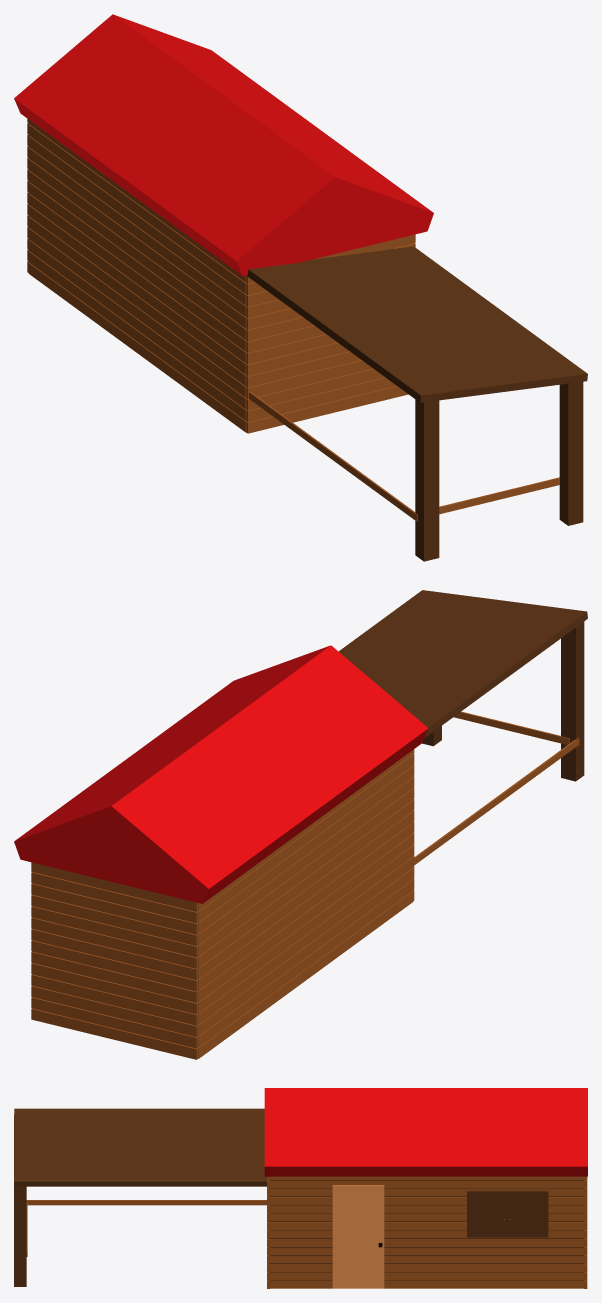
Rendered from GranjaExterior1.fbx.
3 renders of one model, top to bottom at view 1: azimuth 30°, elevation 25°; view 2: azimuth 150°, elevation 25°; view 3: azimuth 270°, elevation 25°, orthographic. The views are drawn at different scales.
Visible parts, largest first — view 1: Cylinder, Cube.005, Cube.022, Cube.007, Cube.021, Cube.020, Cube.024, Cube.023; view 2: Cylinder, Cube.005, Cube.008, Cube.022, Cube.021, Cube.024, Cube.023; view 3: Cylinder, Cube.006, Cube.022, Cube.017, Cube, Cube.018, Cube.019, Cube.024, Cube.020, Cube.008, Cube.007.
Part boxes in pixels (x1,y1,x2,y2): Cylinder: [14, 14, 433, 276]; Cube.005: [28, 120, 246, 432]; Cube.022: [247, 246, 587, 402]; Cube.007: [246, 234, 415, 433]; Cube.021: [415, 397, 439, 561]; Cube.020: [559, 377, 583, 525]; Cube.024: [249, 392, 417, 521]; Cube.023: [439, 477, 559, 514]; Cylinder: [14, 645, 428, 903]; Cube.005: [198, 750, 413, 1058]; Cube.008: [31, 862, 198, 1059]; Cube.022: [339, 590, 587, 737]; Cube.021: [561, 621, 584, 781]; Cube.024: [414, 738, 579, 865]; Cube.023: [453, 711, 569, 744]; Cylinder: [264, 1088, 587, 1176]; Cube.006: [269, 1176, 583, 1288]; Cube.022: [14, 1108, 266, 1186]; Cube.017: [332, 1185, 384, 1288]; Cube: [269, 1180, 584, 1280]; Cube.018: [507, 1190, 548, 1237]; Cube.019: [467, 1190, 507, 1237]; Cube.024: [26, 1200, 266, 1205]; Cube.020: [14, 1176, 26, 1286]; Cube.008: [584, 1176, 587, 1288]; Cube.007: [267, 1176, 269, 1288].
Bounding box in the file's own units: 238 × 274 × 825.
